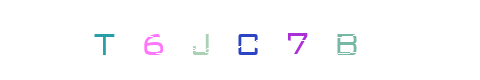6: (199, 0, 279, 80)
7: (210, 0, 290, 80)
B: (258, 0, 338, 80)
C: (207, 0, 287, 80)
J: (200, 0, 280, 80)
T: (129, 0, 209, 80)
